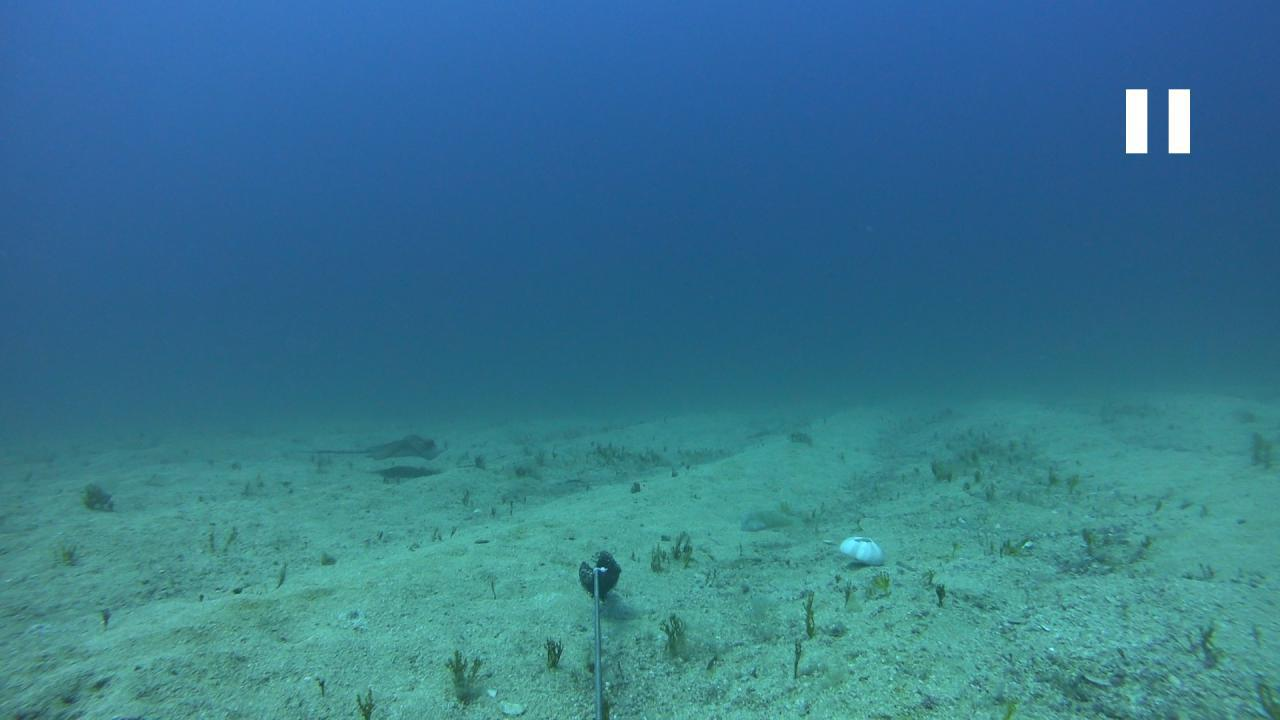dasyatis: (300, 434, 446, 462)
raor: (739, 506, 798, 531)
